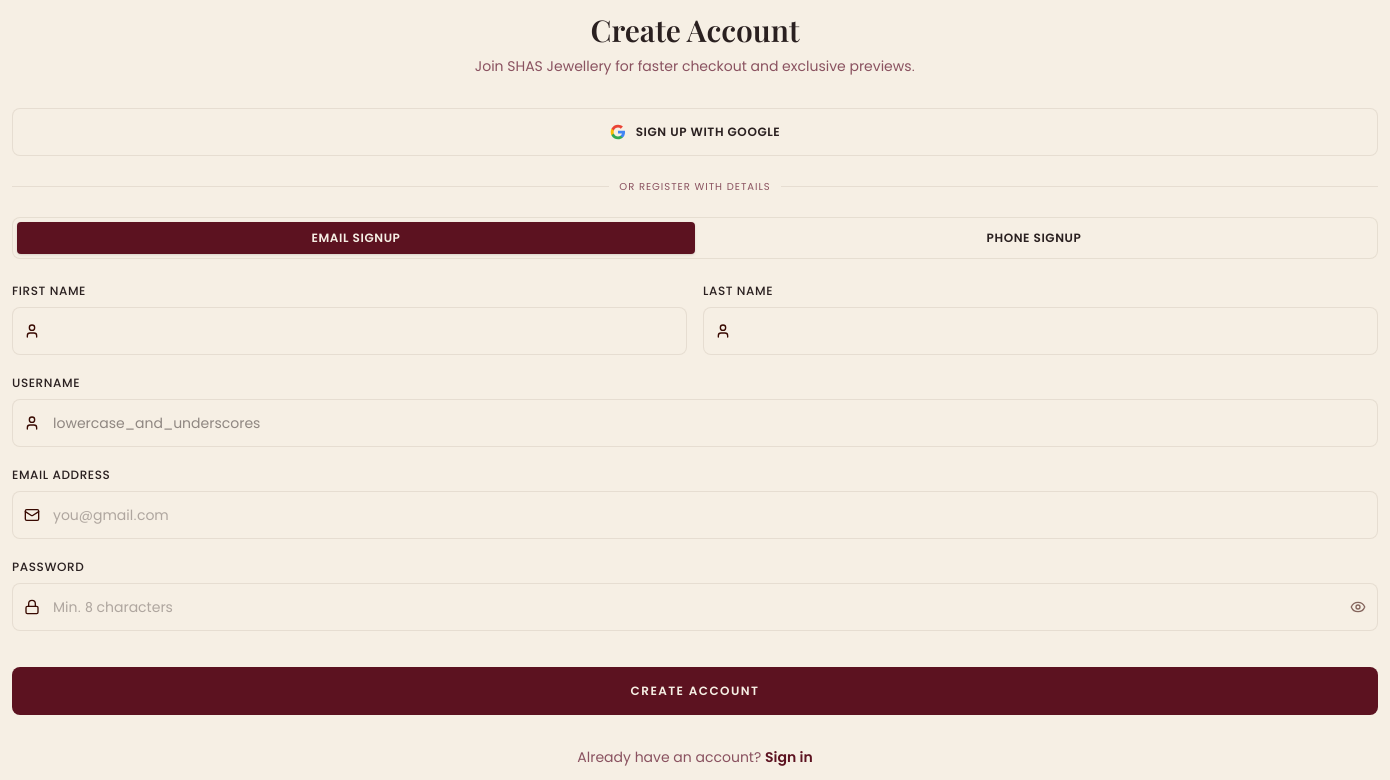
Test: RegisterForm › handles and displays error message from Supabase auth signUp
Type "John" into the field labelled "First Name" at (350, 331), box left=12, top=307, right=687, bottom=355
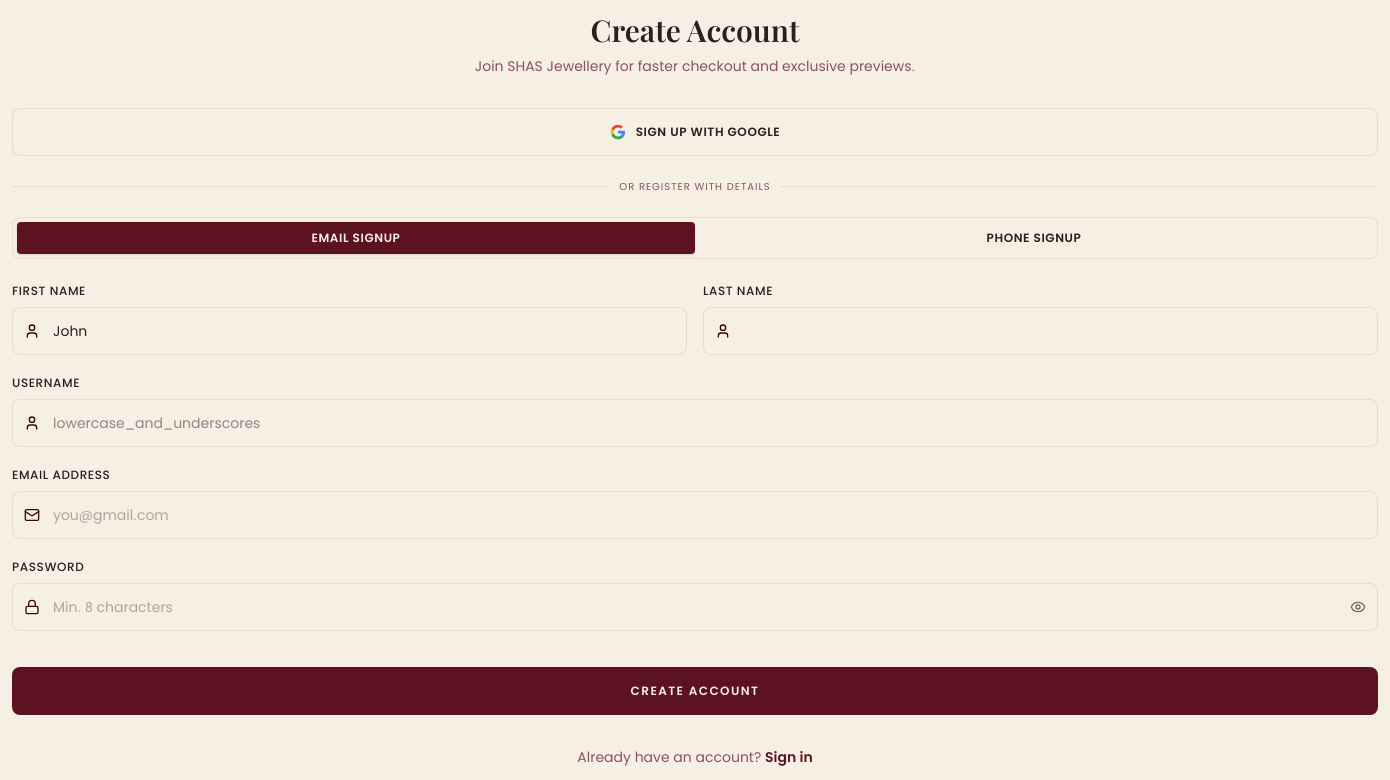
Type "Doe" into the field labelled "Last Name" at (1040, 331), box left=703, top=307, right=1378, bottom=355
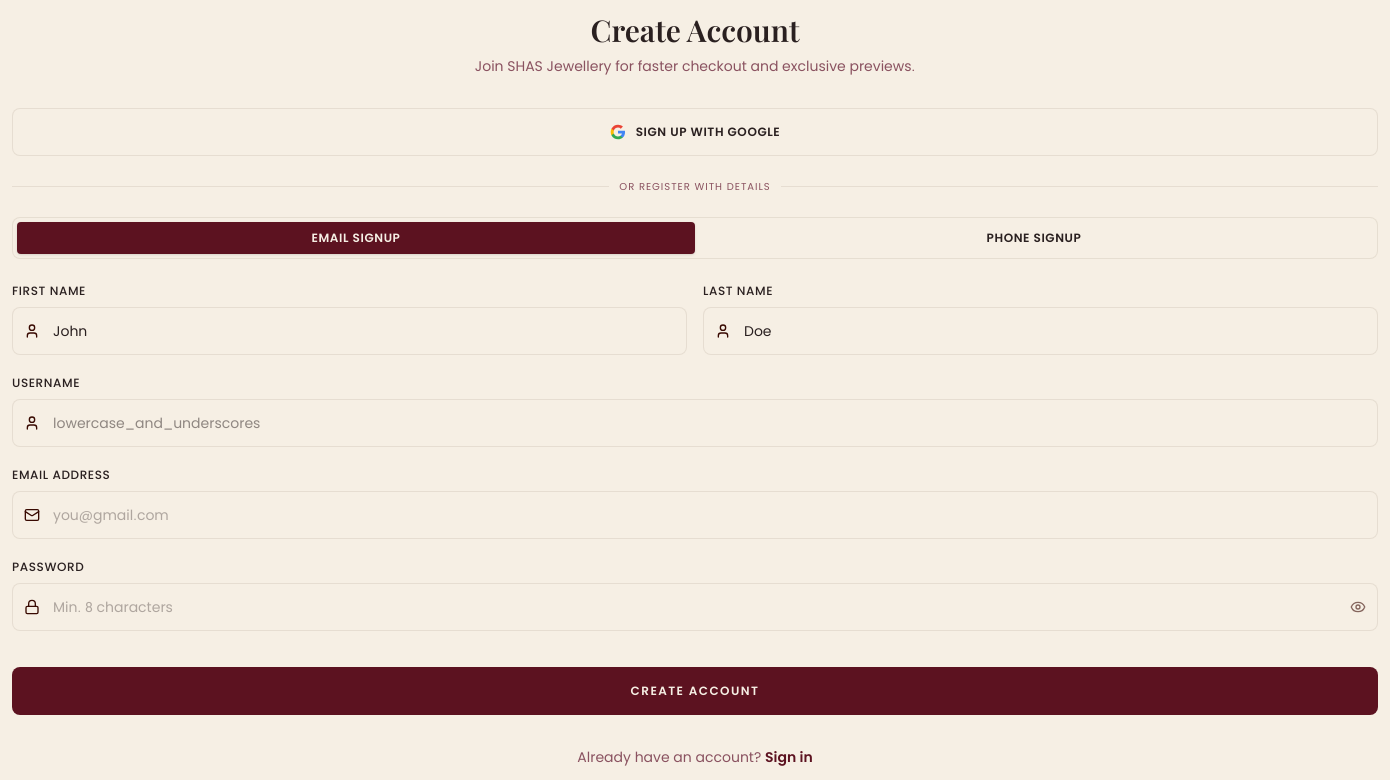
Type "johndoe" into the field labelled "Username" at (695, 423), box left=12, top=399, right=1378, bottom=447
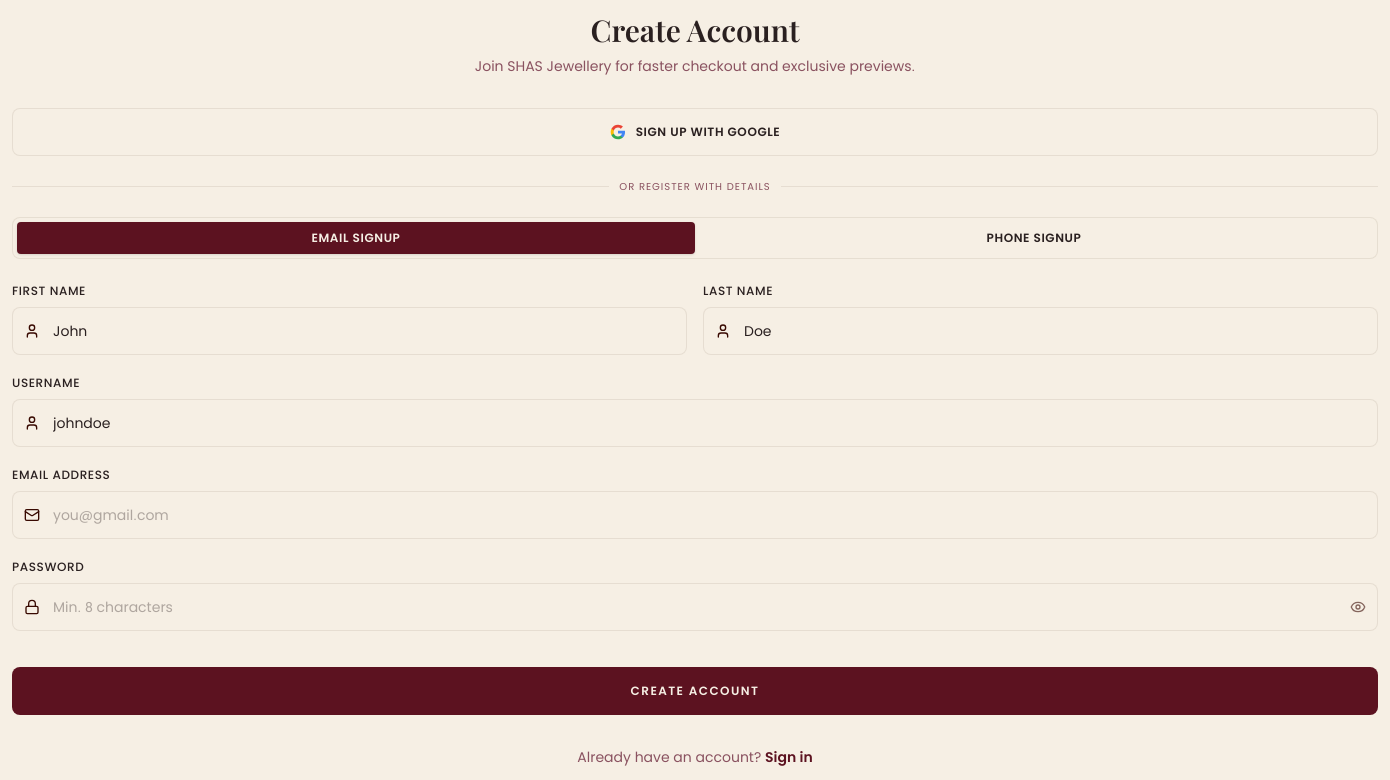
Type "john.doe@example.com" into the field labelled "Email Address" at (695, 515), box left=12, top=491, right=1378, bottom=539
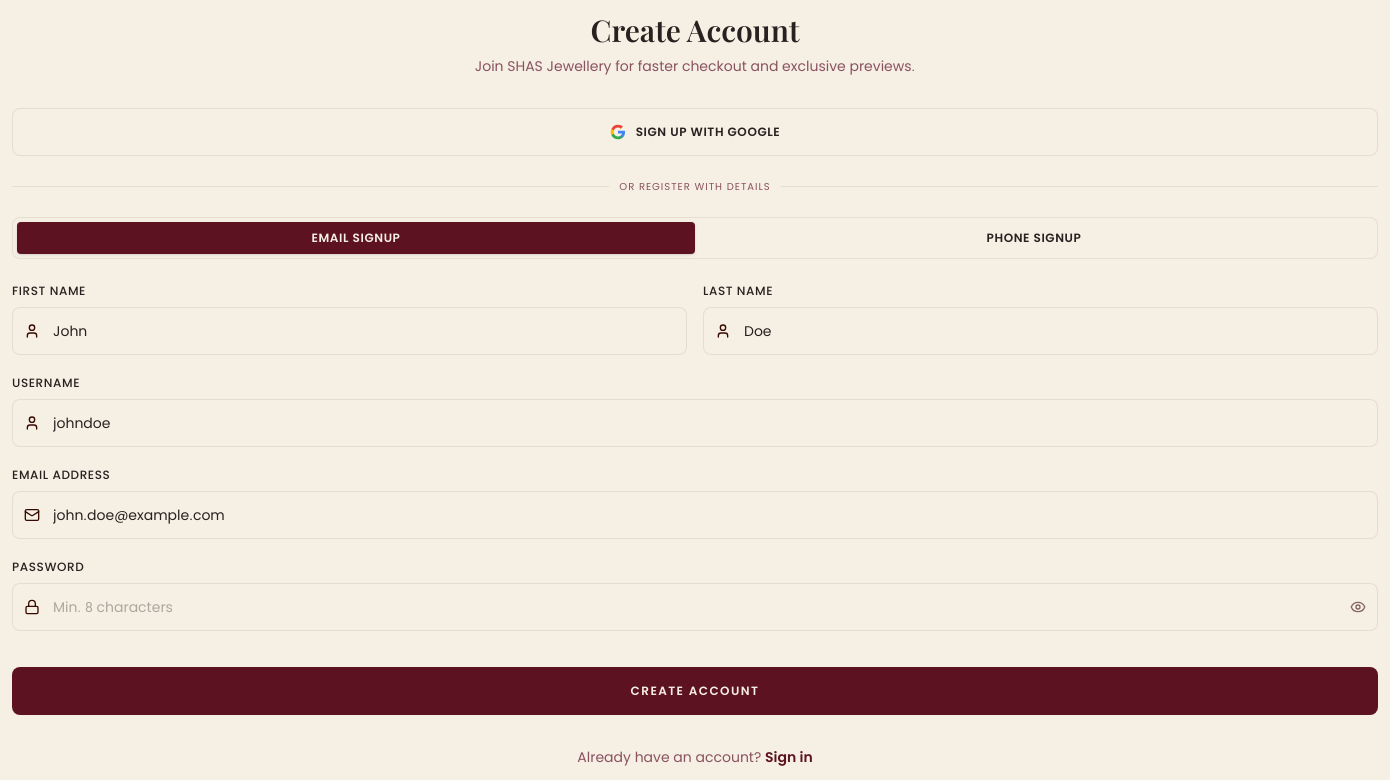
Type "password123" into the password field labelled "Password" at (695, 607), box left=12, top=583, right=1378, bottom=631
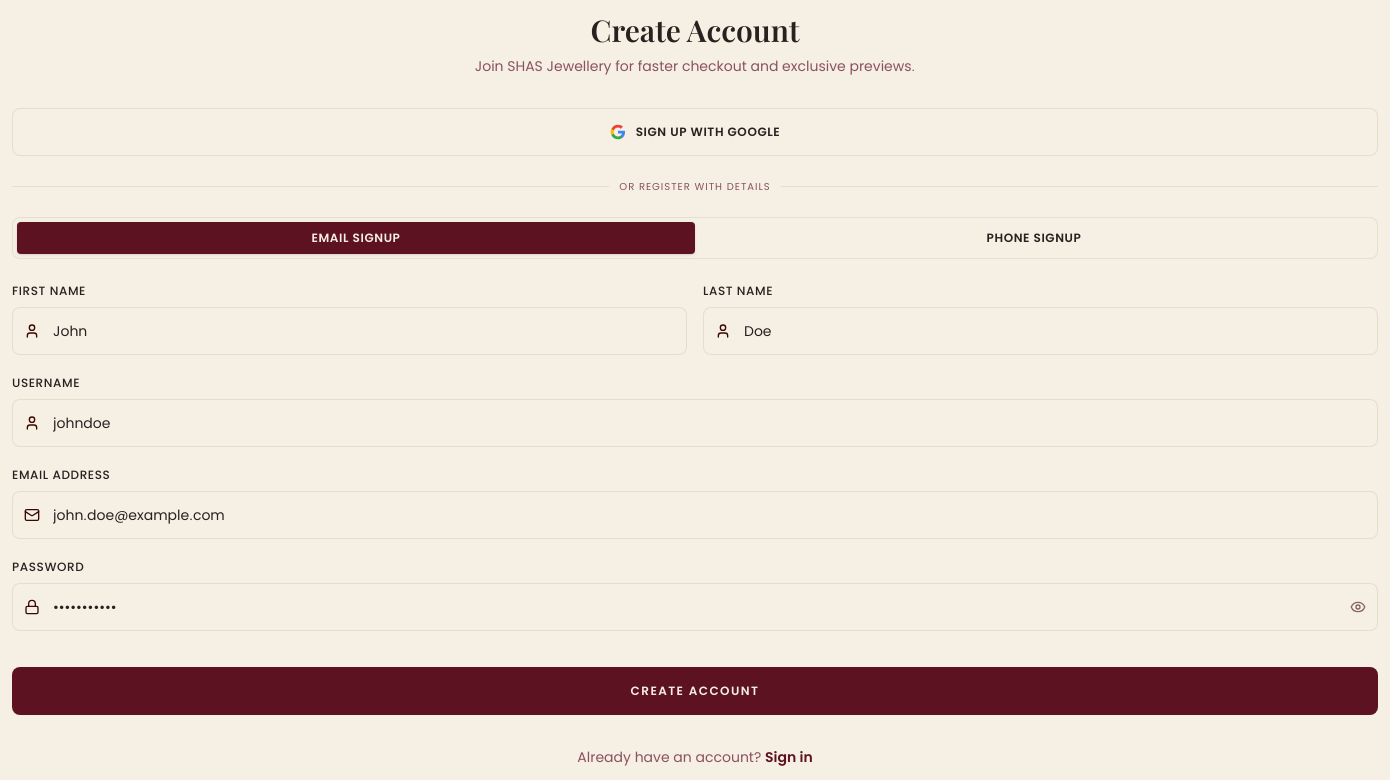
Click the button "Create Account" at (695, 691), box left=12, top=667, right=1378, bottom=715
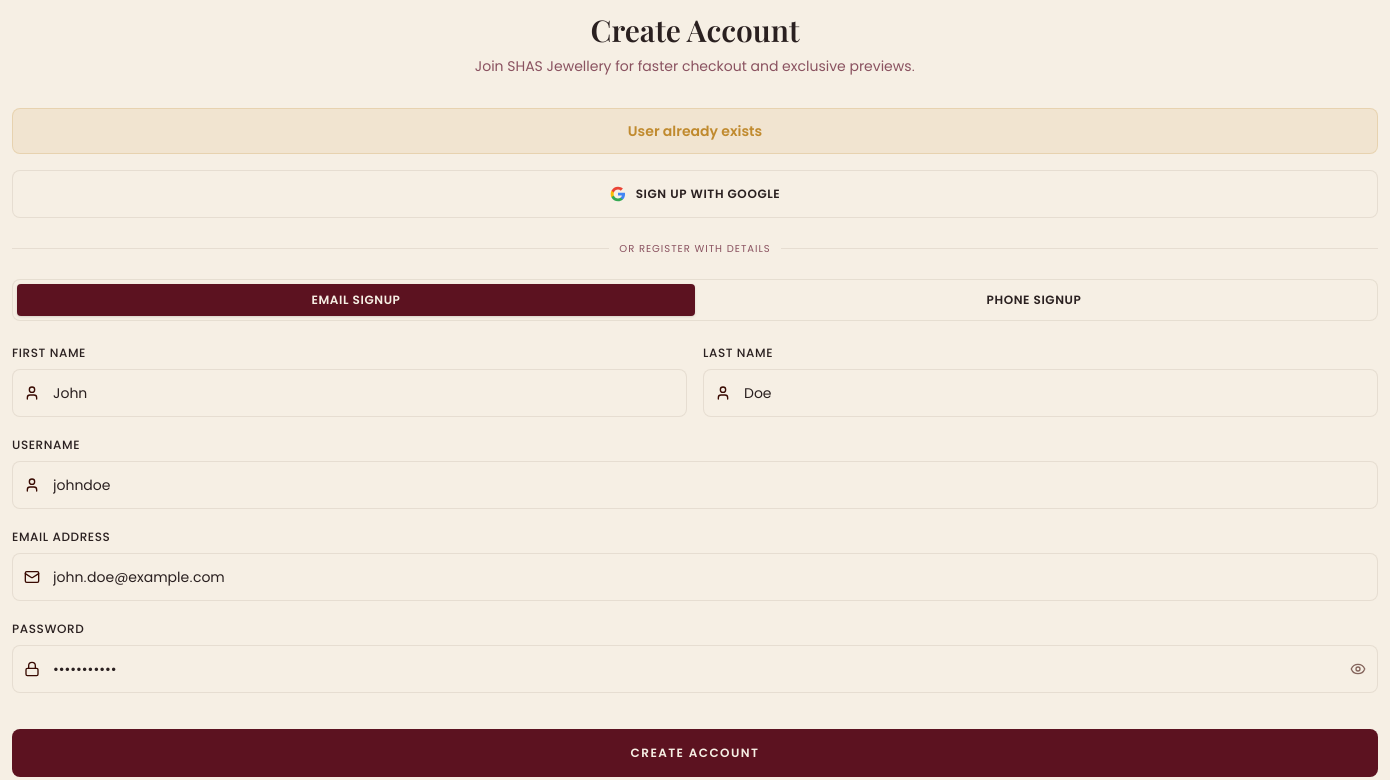
Check: the text "User already exists" is shown, box left=12, top=108, right=1378, bottom=154
